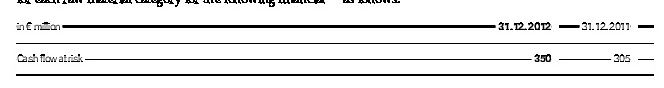table: (0, 0, 664, 88)
